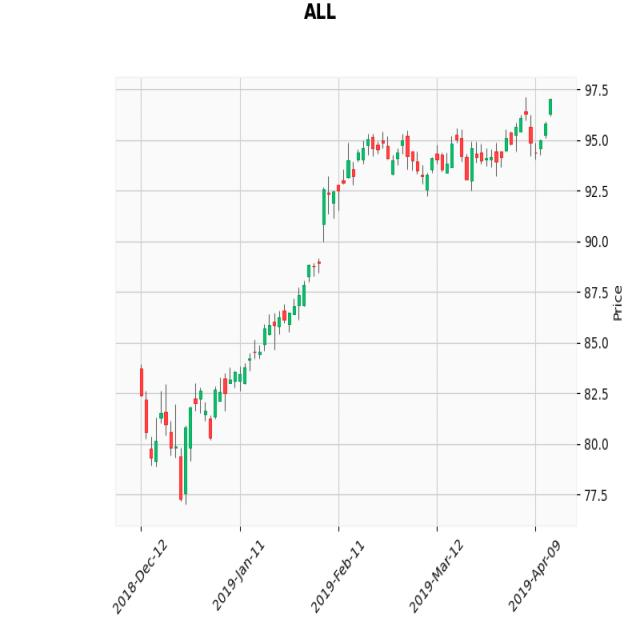Inverse-Head-Shoulders: (135, 358, 232, 506)
